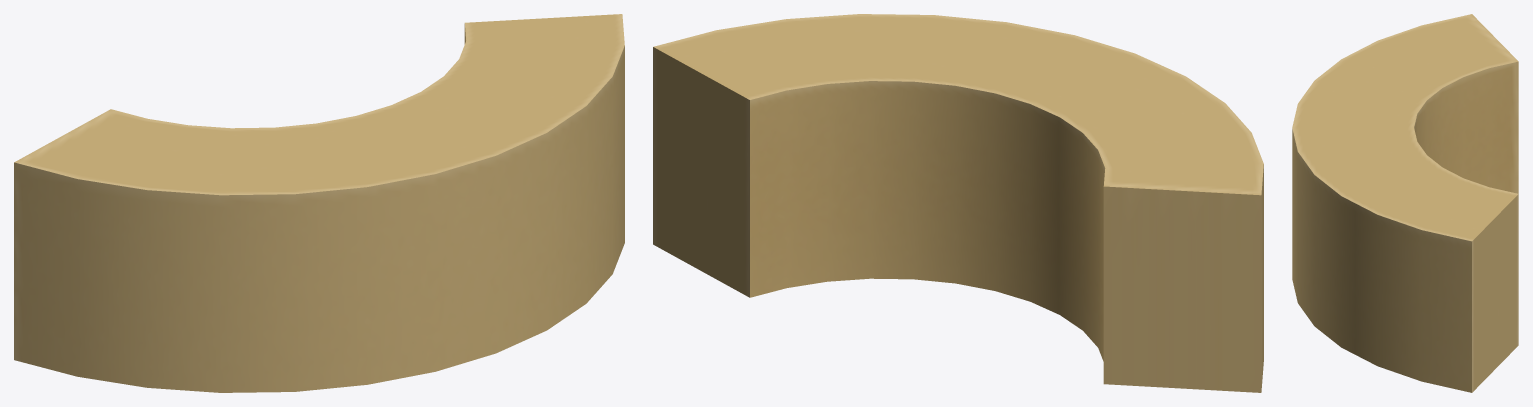
File: borda01.fbx
3 views of the same model, side by side, from view 1: azimuth 30°, elevation 25°; view 2: azimuth 150°, elevation 25°; view 3: azimuth 270°, elevation 25° (orthographic). The views are drawn at different scales.
Visible parts, largest first — view 1: borda01; view 2: borda01; view 3: borda01.
Part boxes in pixels (x1,y1,x2,y2): borda01: [14, 14, 624, 392]; borda01: [653, 14, 1263, 392]; borda01: [1292, 14, 1518, 392].
Bounding box in the file's own units: 909 × 282 × 383.
